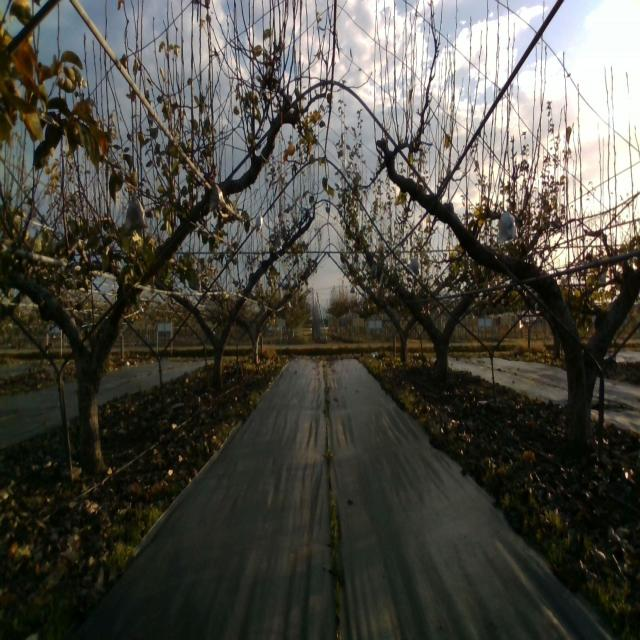pearbags: (125, 189, 148, 235), (498, 206, 519, 244), (210, 182, 227, 213)
